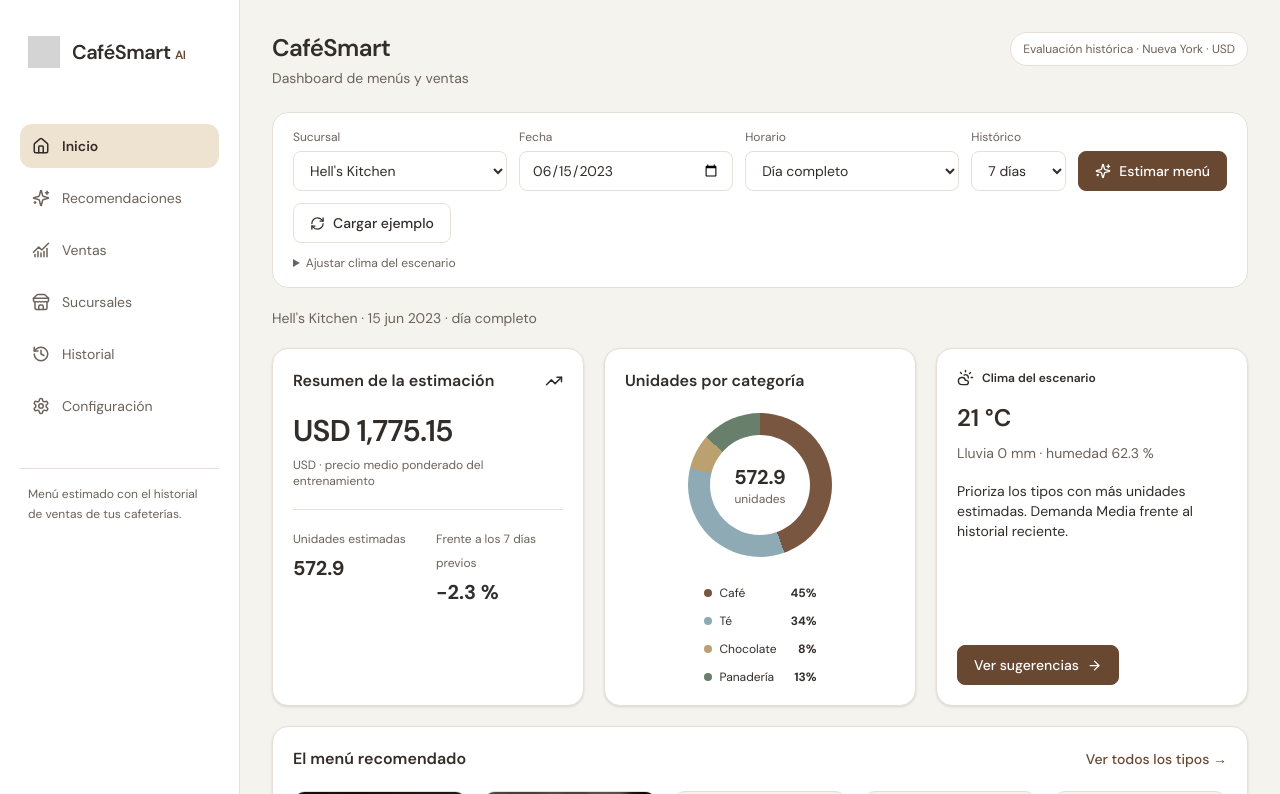
Test: Dashboard conectado al contrato del motor › muestra la predicción y los 13 tipos reales, y envía la franja elegida
Later steps or results of the test are not shown.
Click the button "Recomendaciones" at (120, 198), box x1=20 y1=176 x2=219 y2=220
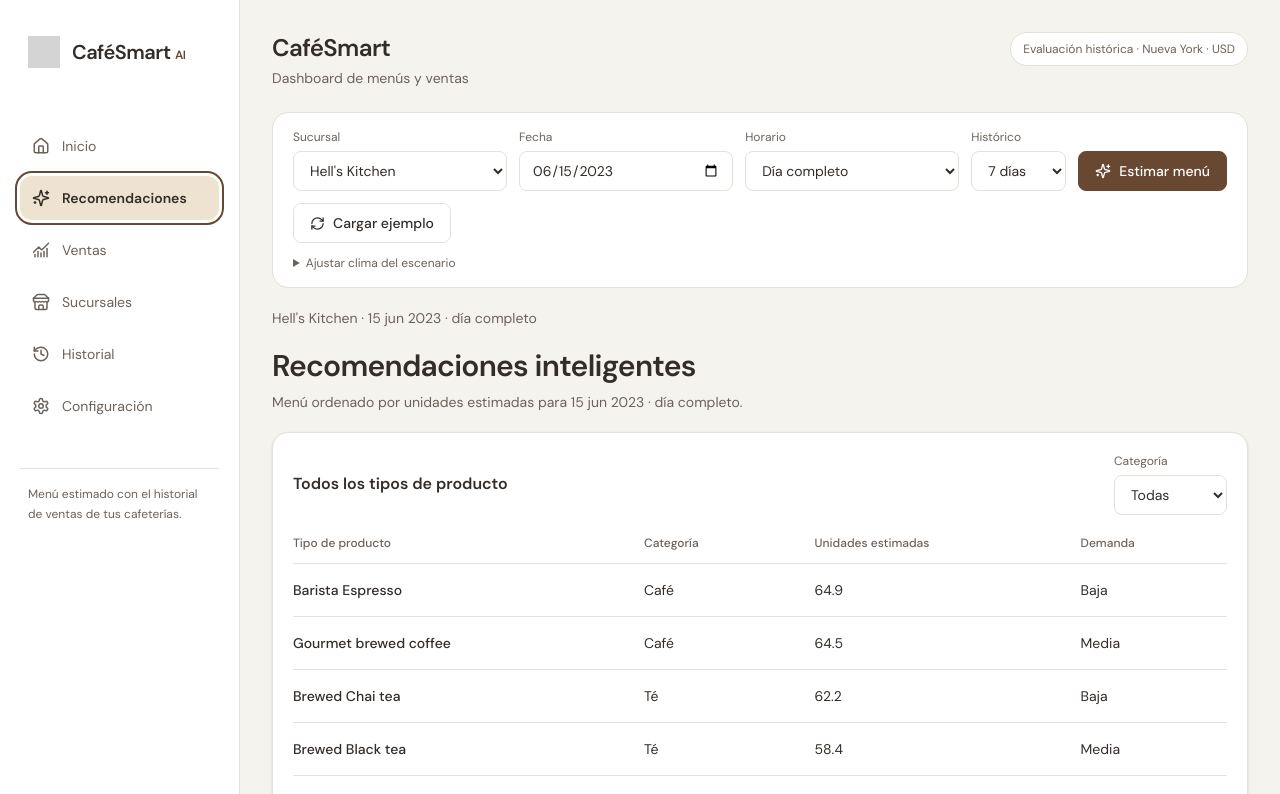
Check: the heading "Todos los tipos de producto" is shown, box x1=293 y1=472 x2=508 y2=496
Check: the number of rows is 14
Select "Té" in the dropdown labelled "Categoría" at (1170, 495), box x1=1114 y1=475 x2=1227 y2=515
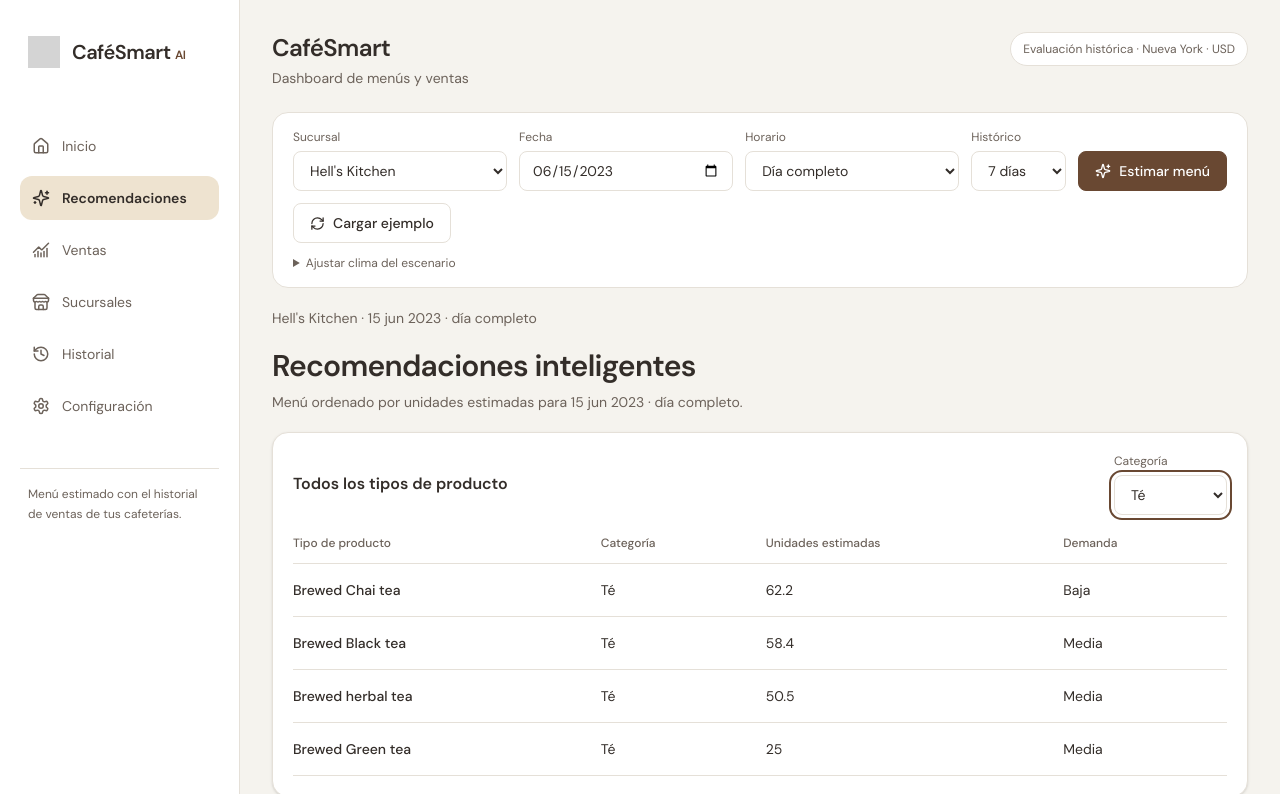
Check: the number of rows is 5, box x1=293 y1=535 x2=1227 y2=564; x1=293 y1=564 x2=1227 y2=616; x1=293 y1=616 x2=1227 y2=670; x1=293 y1=670 x2=1227 y2=722; x1=293 y1=722 x2=1227 y2=776
